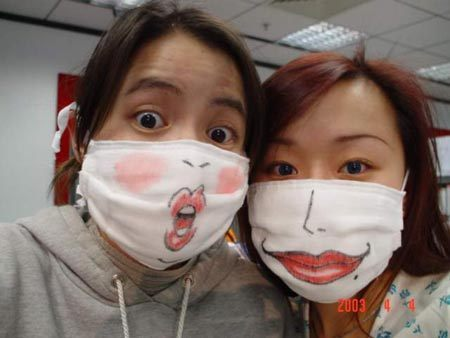face_mask: (242, 84, 412, 301), (87, 35, 249, 240)
